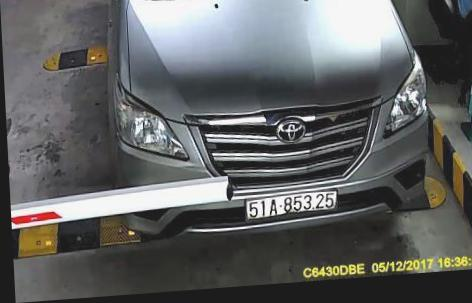License_Plate: (244, 190, 339, 221)
